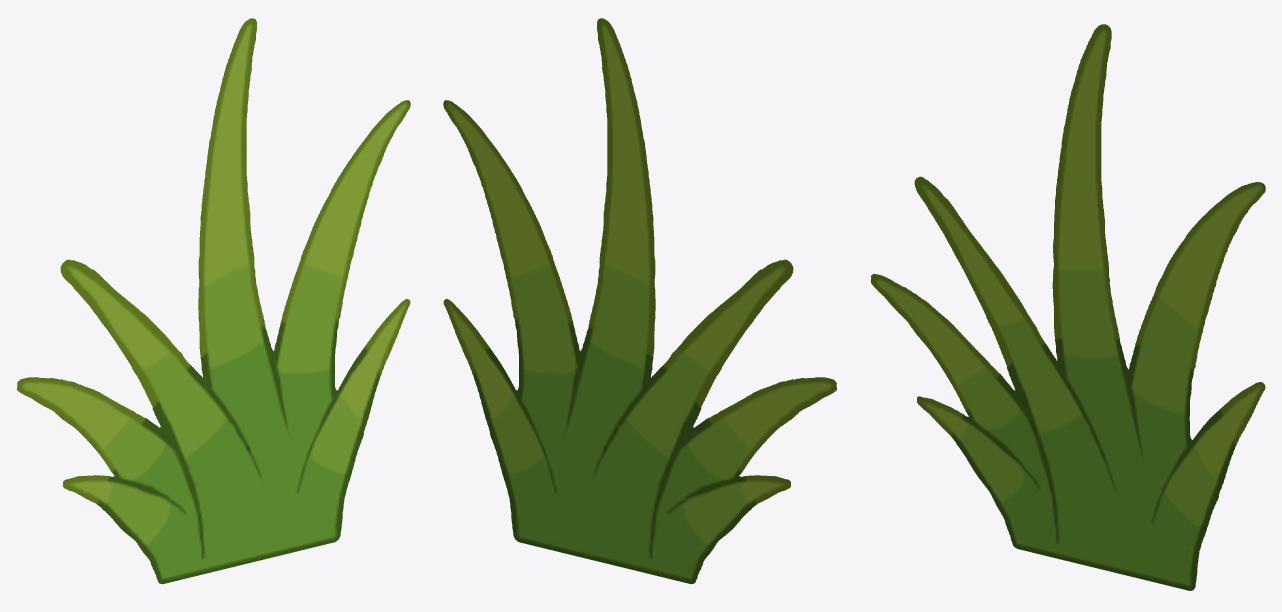
Rendered from HojaJ.fbx.
3 views of the same model, side by side, from view 1: azimuth 30°, elevation 25°; view 2: azimuth 150°, elevation 25°; view 3: azimuth 330°, elevation 25° (orthographic).
Visible parts, largest first — view 1: HojaJ; view 2: HojaJ; view 3: HojaJ.
Boxes of the visible parts, x1,y1,x2,y2 form: HojaJ: (17, 18, 410, 584); HojaJ: (443, 18, 836, 584); HojaJ: (870, 24, 1265, 590).
Bounding box in the file's own units: 0.5723 × 0.7513 × 3.28e-08.
